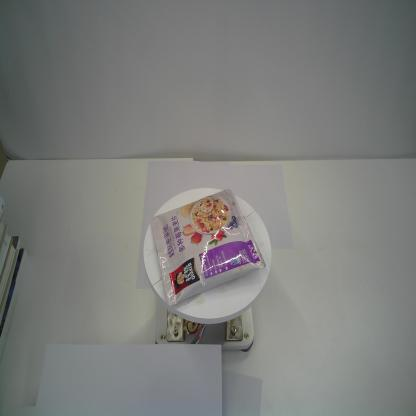Instant Drink: (149, 187, 267, 307)
